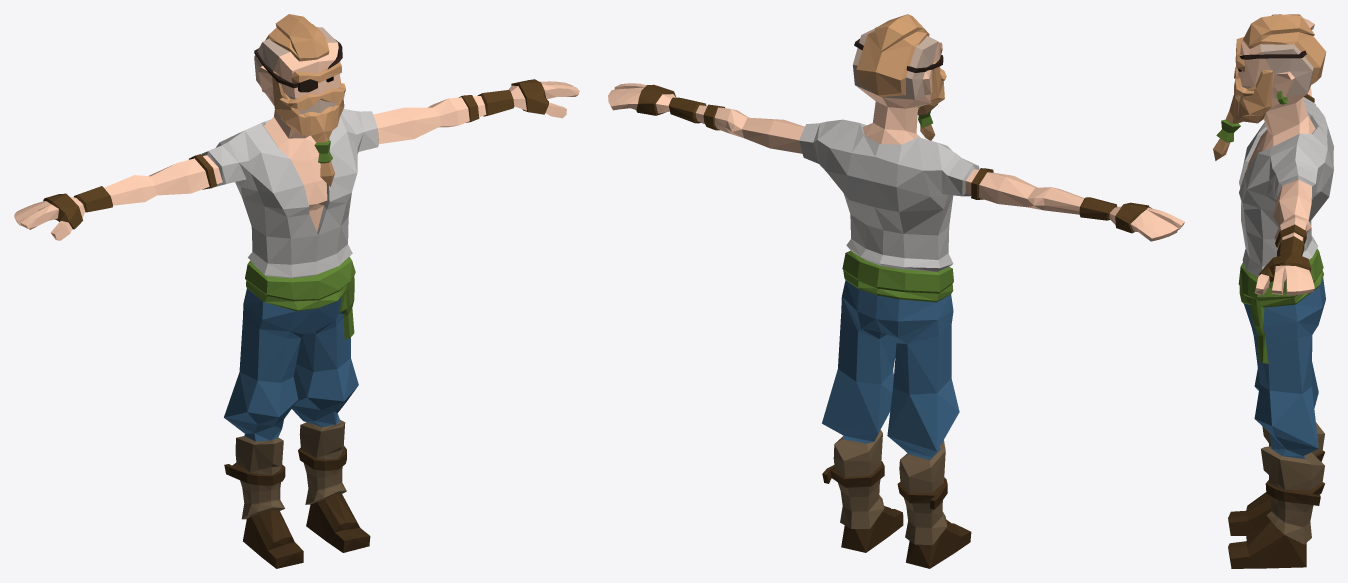
The model's file is agricultor.fbx.
The picture shows the model from 3 angles, left to right: view 1: azimuth 30°, elevation 25°; view 2: azimuth 150°, elevation 25°; view 3: azimuth 270°, elevation 25°; orthographic projection. The views are drawn at different scales.
Visible parts, largest first — view 1: Character_Pirate_Seaman_01; view 2: Character_Pirate_Seaman_01; view 3: Character_Pirate_Seaman_01.
Part boxes in pixels (<box>): Character_Pirate_Seaman_01: <box>14,14,579,568</box>; Character_Pirate_Seaman_01: <box>608,14,1184,568</box>; Character_Pirate_Seaman_01: <box>1213,14,1333,568</box>.
Bounding box in the file's own units: 80.61 × 14.86 × 72.04.
Materials: 1 (1 with a texture image).
